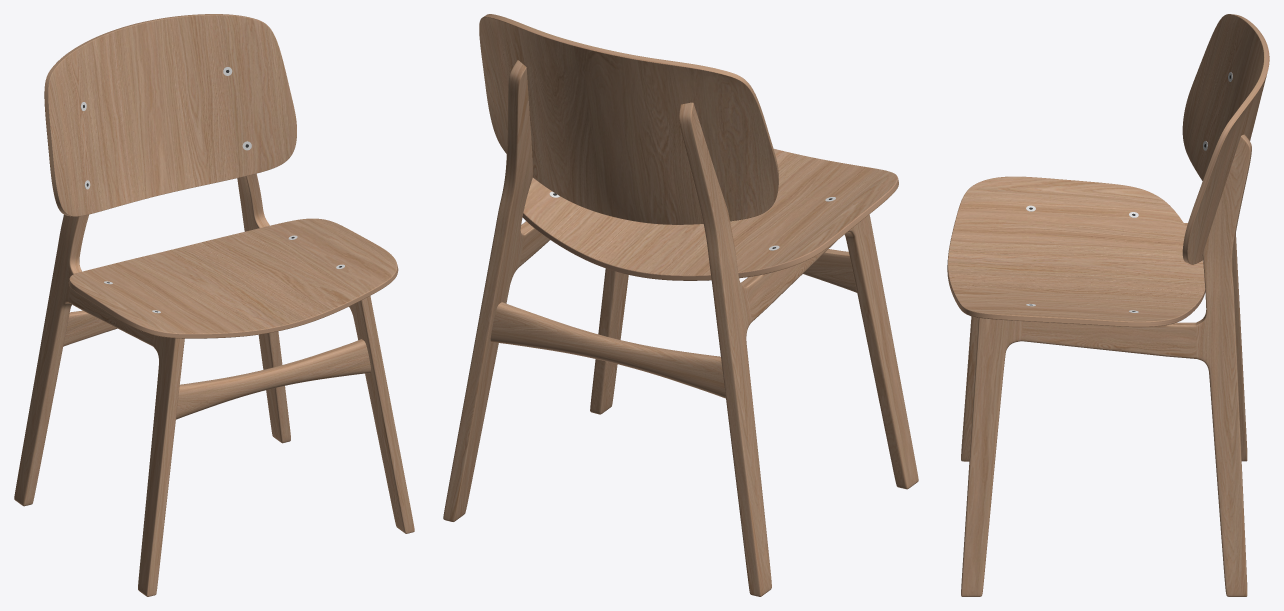
File: chair.fbx
3 renders of one model, left to right at view 1: azimuth 30°, elevation 25°; view 2: azimuth 150°, elevation 25°; view 3: azimuth 270°, elevation 25°, orthographic. The views are drawn at different scales.
Visible parts, largest first — view 1: Plane.025, Plane.026, Cube, Cube.002, Cube.003; view 2: Plane.025, Cube, Plane.026, Cube.003, Cube.002; view 3: Plane.026, Cube, Plane.025.
Part boxes in pixels (x1,y1,x2,y2): Plane.025: (44, 14, 296, 216); Plane.026: (68, 218, 398, 338); Cube: (14, 173, 414, 596); Cube.002: (176, 339, 371, 419); Cube.003: (63, 310, 117, 346); Plane.025: (479, 14, 778, 224); Cube: (443, 60, 918, 596); Plane.026: (522, 149, 898, 280); Cube.003: (490, 302, 725, 398); Cube.002: (803, 249, 856, 292); Plane.026: (947, 176, 1205, 327); Cube: (961, 134, 1251, 596); Plane.025: (1182, 14, 1269, 264).
Size of the model in its own units: 51.06 by 79.69 by 49.5.
